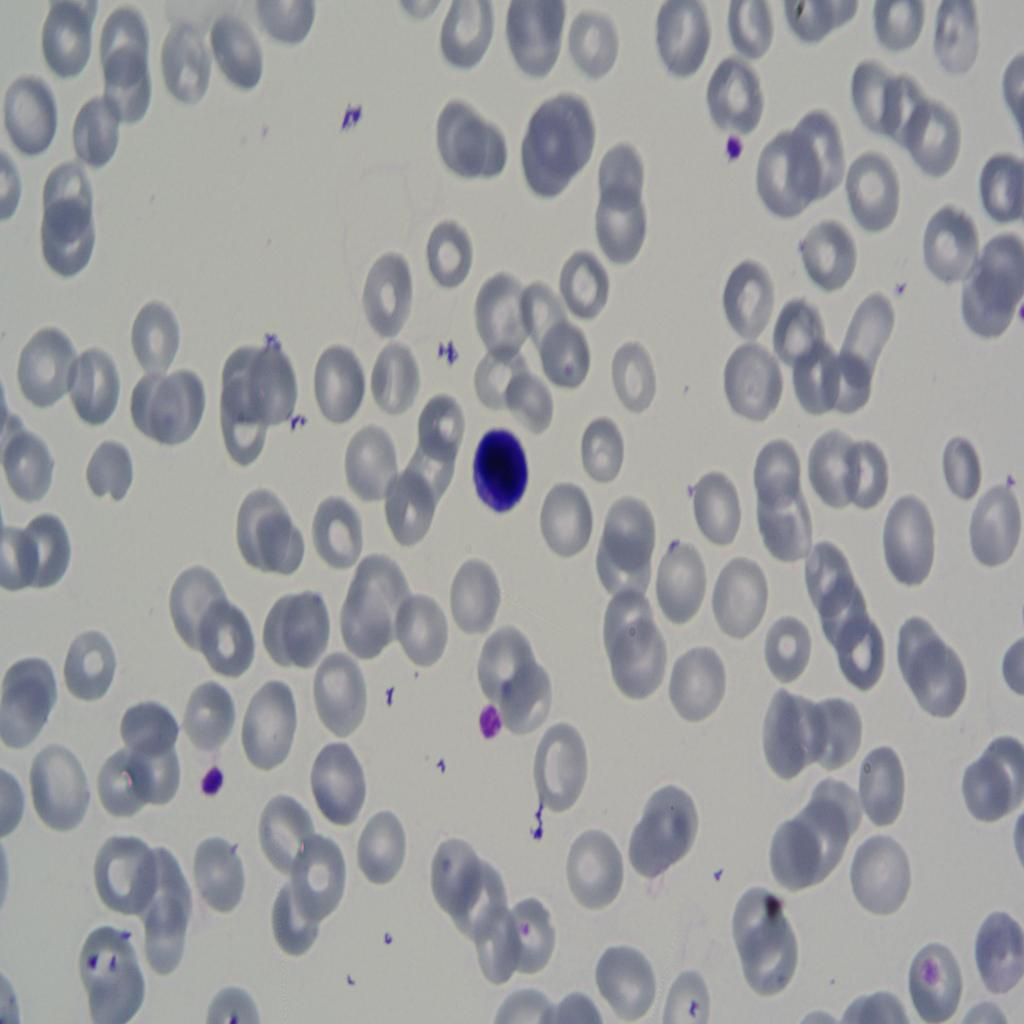Platelet: (467, 407, 548, 545), (467, 687, 522, 755), (190, 748, 230, 820), (726, 118, 753, 169), (342, 101, 375, 137)
